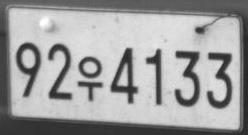1: (143, 47, 171, 105)
2: (47, 42, 73, 100)
3: (174, 49, 201, 107), (206, 51, 233, 109)
4: (109, 47, 138, 104)
9: (15, 41, 41, 98)
우: (77, 55, 103, 101)
